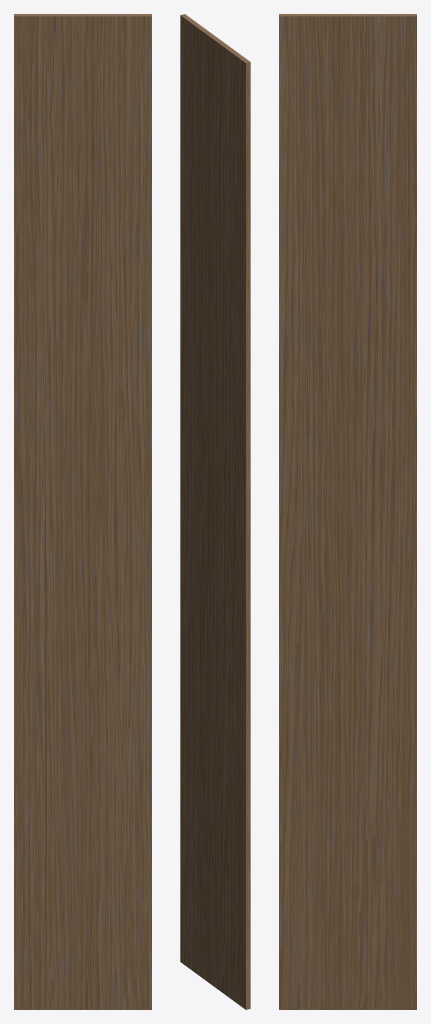
3 views of the same model, side by side, from view 1: azimuth 90°, elevation 25°; view 2: azimuth 210°, elevation 25°; view 3: azimuth 270°, elevation 25° (orthographic). The views are drawn at different scales.
Visible parts, largest first — view 1: fence1; view 2: fence1; view 3: fence1.
Boxes of the visible parts, box(x1,y1,x2,y2) form: fence1: box(14, 14, 151, 1009); fence1: box(180, 14, 250, 1009); fence1: box(279, 14, 416, 1009).
Bounding box in the file's own units: 1 × 191 × 24.
Materials: 1 (1 with a texture image).
